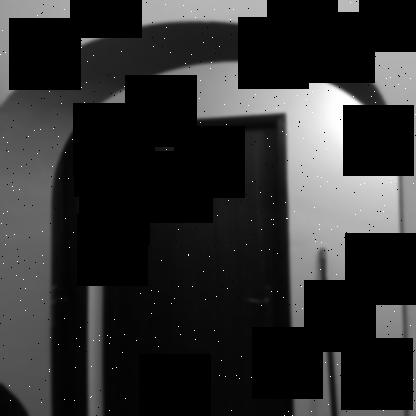Porte: (97, 106, 297, 415)
